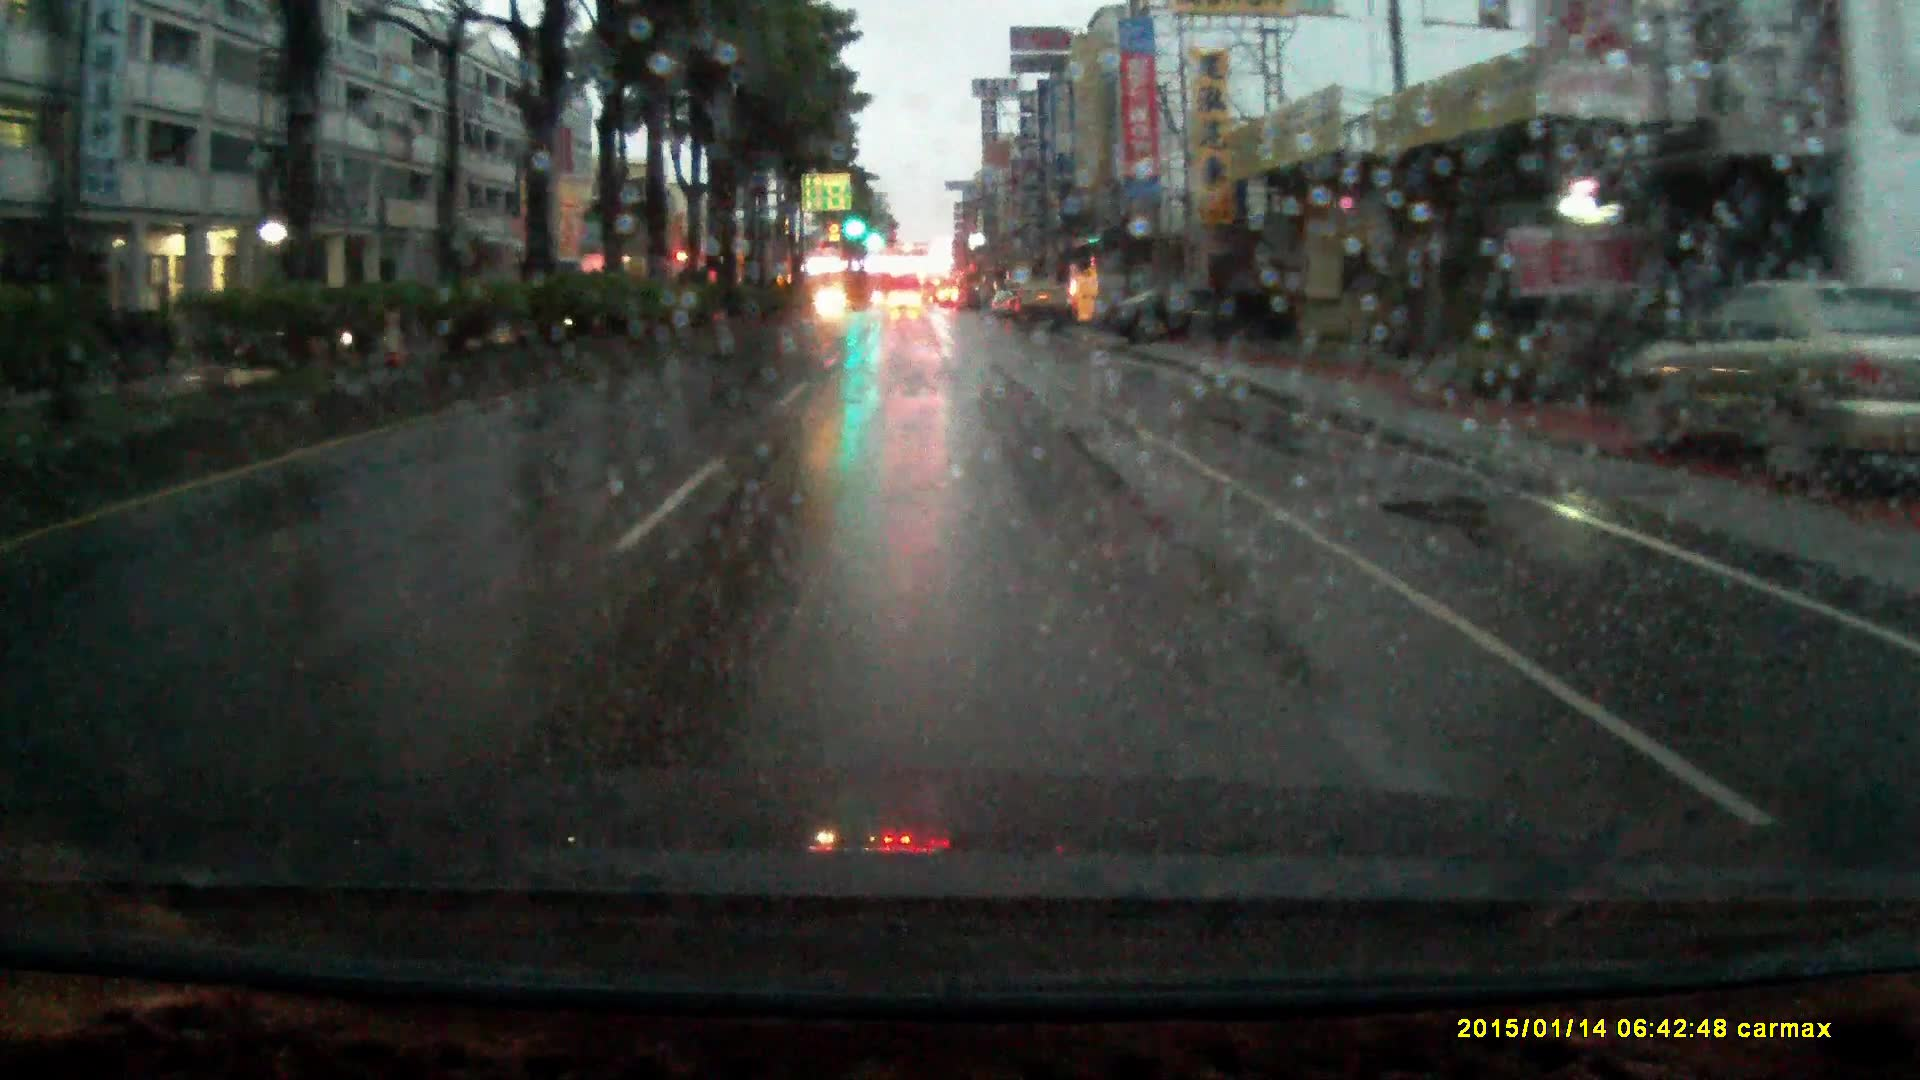vehicle: (1636, 276, 1920, 495), (1098, 280, 1292, 342), (1011, 273, 1069, 327), (886, 285, 923, 309)
